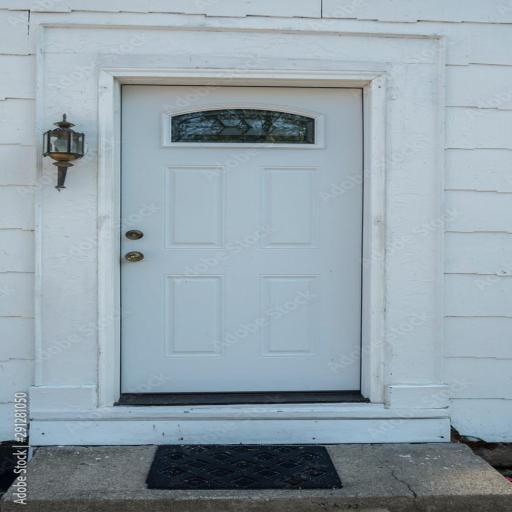door: (28, 42, 420, 431)
